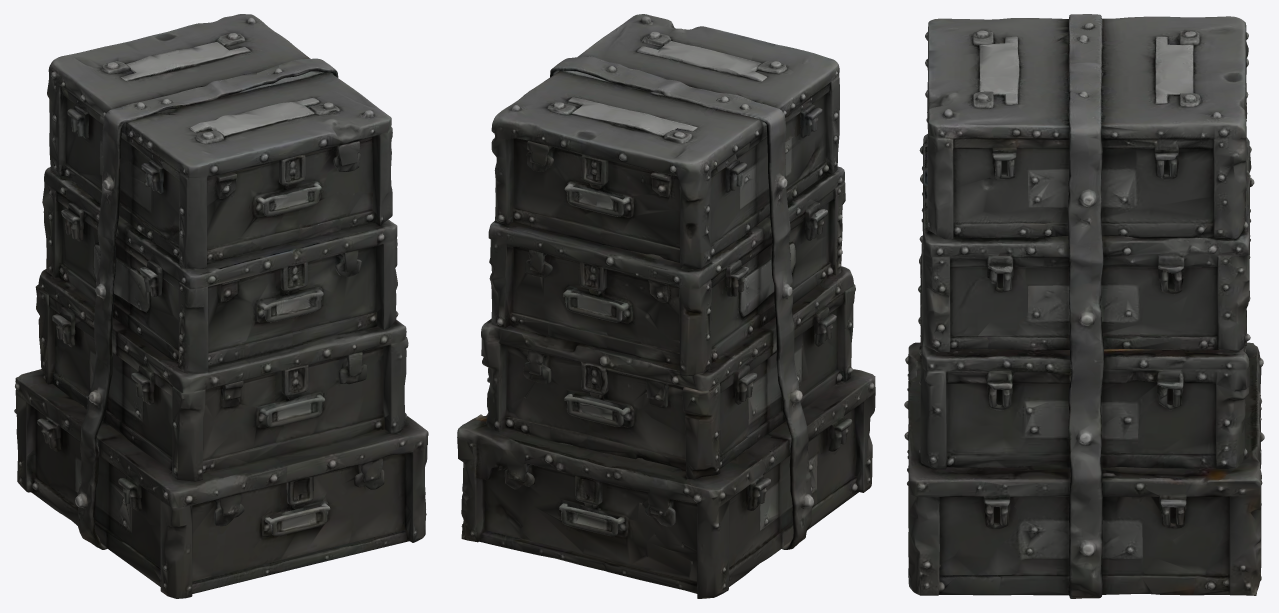
File: vault-2.glb
3 renders of one model, left to right at view 1: azimuth 30°, elevation 25°; view 2: azimuth 150°, elevation 25°; view 3: azimuth 270°, elevation 25°, orthographic. The views are drawn at different scales.
Parts seen in each view (by area): view 1: tripo_node_1caf3f62-f6ec-4c47-b19d-3254792566e5; view 2: tripo_node_1caf3f62-f6ec-4c47-b19d-3254792566e5; view 3: tripo_node_1caf3f62-f6ec-4c47-b19d-3254792566e5.
Boxes of the visible parts, x1=… form: tripo_node_1caf3f62-f6ec-4c47-b19d-3254792566e5: x1=14, y1=14, x2=428, y2=598; tripo_node_1caf3f62-f6ec-4c47-b19d-3254792566e5: x1=457, y1=14, x2=875, y2=598; tripo_node_1caf3f62-f6ec-4c47-b19d-3254792566e5: x1=904, y1=14, x2=1264, y2=598.
Bounding box in the file's own units: 0.6923 × 0.9996 × 0.6937.
Materials: 1 (1 with a texture image).
